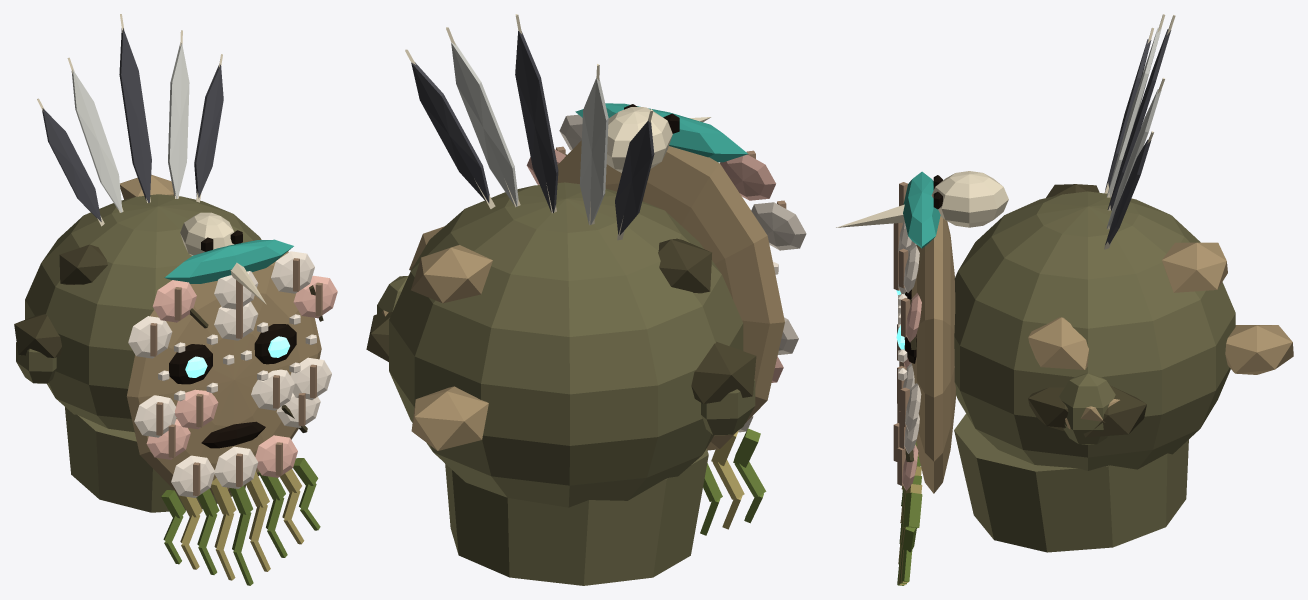
Rendered from mud_shaman_head.glb.
The picture shows the model from 3 angles, left to right: view 1: azimuth 30°, elevation 25°; view 2: azimuth 150°, elevation 25°; view 3: azimuth 270°, elevation 25°; orthographic projection. The views are drawn at different scales.
Parts seen in each view (by area): view 1: mud_shaman_head; view 2: mud_shaman_head; view 3: mud_shaman_head.
Boxes of the visible parts, box(x1,y1,x2,y2) form: mud_shaman_head: box(14, 14, 337, 585); mud_shaman_head: box(366, 14, 806, 585); mud_shaman_head: box(836, 14, 1293, 585).
Bounding box in the file's own units: 0.9395 × 1.58 × 1.16.
